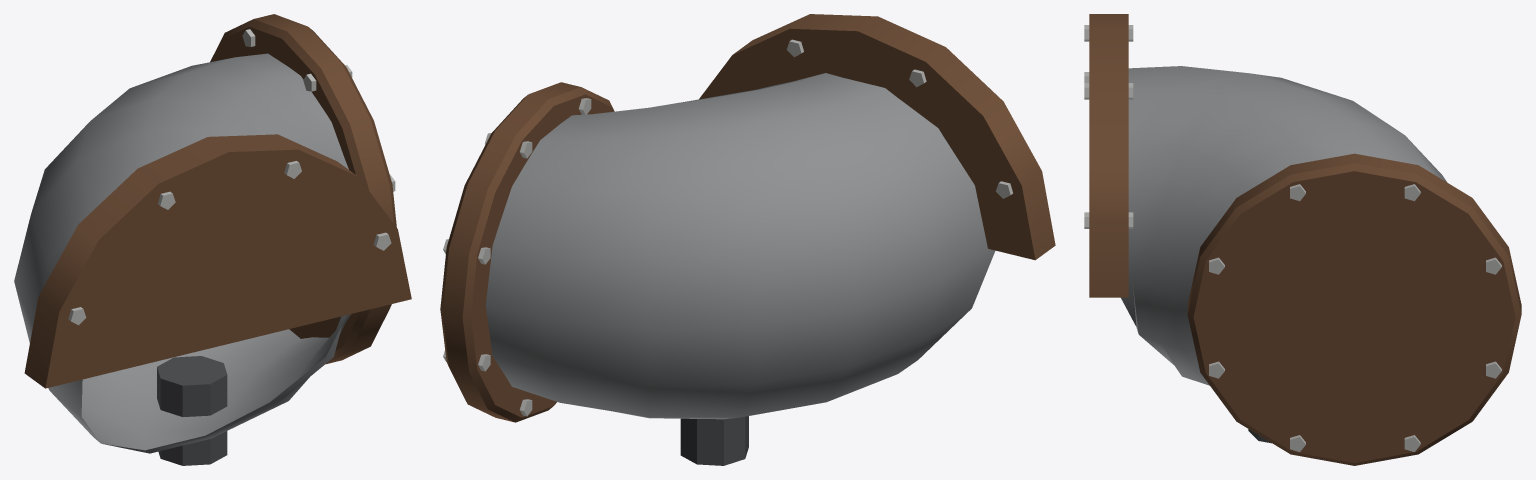
Rendered from pipe-corner-down-right.glb.
3 views of the same model, side by side, from view 1: azimuth 30°, elevation 25°; view 2: azimuth 150°, elevation 25°; view 3: azimuth 270°, elevation 25° (orthographic). The views are drawn at different scales.
Visible parts, largest first — view 1: body; view 2: body; view 3: body.
Part boxes in pixels (left/top/right/bottom): body: left=14, top=14, right=411, bottom=465; body: left=440, top=14, right=1055, bottom=465; body: left=1084, top=14, right=1521, bottom=465.
Size of the model in its own units: 0.916 by 0.826 by 0.89.
